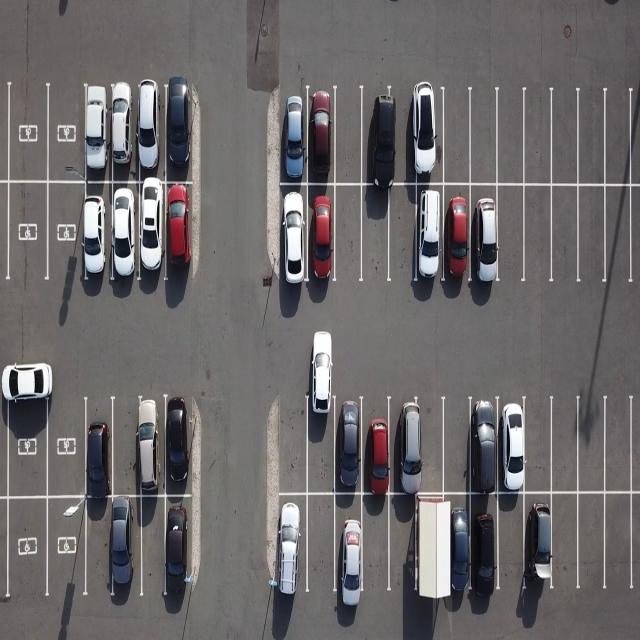space-empty: (3, 497, 46, 604), (46, 389, 88, 497), (6, 388, 47, 498), (47, 180, 87, 288), (7, 182, 46, 289), (47, 82, 86, 184), (492, 490, 530, 594), (7, 79, 45, 183), (112, 398, 151, 499), (306, 494, 340, 602), (546, 493, 582, 594), (410, 495, 444, 601), (571, 494, 607, 594), (603, 492, 638, 594), (384, 184, 419, 284), (358, 496, 392, 598), (332, 85, 366, 185), (437, 398, 472, 494), (573, 398, 607, 496), (523, 397, 557, 494), (548, 396, 582, 492), (574, 183, 606, 285), (494, 184, 526, 285), (607, 184, 638, 288), (524, 184, 556, 284), (81, 498, 113, 598), (438, 90, 471, 186), (334, 186, 365, 287), (138, 497, 168, 601), (358, 186, 390, 283), (604, 398, 636, 495), (549, 186, 580, 286), (524, 91, 556, 187), (416, 402, 448, 498), (575, 89, 607, 184), (549, 91, 581, 185), (605, 88, 636, 184), (469, 90, 500, 185), (494, 91, 524, 186), (391, 88, 417, 188)
space-occupied: (45, 494, 88, 598), (123, 396, 165, 497), (433, 496, 471, 605), (466, 491, 504, 598), (359, 84, 399, 185), (273, 493, 309, 602), (465, 400, 504, 497), (164, 182, 201, 282), (332, 490, 366, 597), (164, 496, 198, 603), (492, 398, 529, 494), (112, 497, 146, 601), (306, 184, 340, 288), (468, 182, 502, 286), (386, 498, 421, 598), (358, 397, 394, 494), (524, 490, 558, 590), (410, 90, 445, 187), (78, 181, 110, 287), (110, 181, 142, 286), (391, 398, 426, 494), (332, 395, 366, 493), (136, 182, 168, 285), (164, 396, 197, 495), (82, 395, 114, 497), (438, 184, 470, 286), (280, 181, 310, 289), (307, 88, 340, 186), (307, 398, 340, 495), (415, 184, 446, 285), (134, 83, 164, 182), (166, 85, 195, 183), (83, 85, 111, 184), (282, 88, 310, 186), (112, 86, 138, 182)
